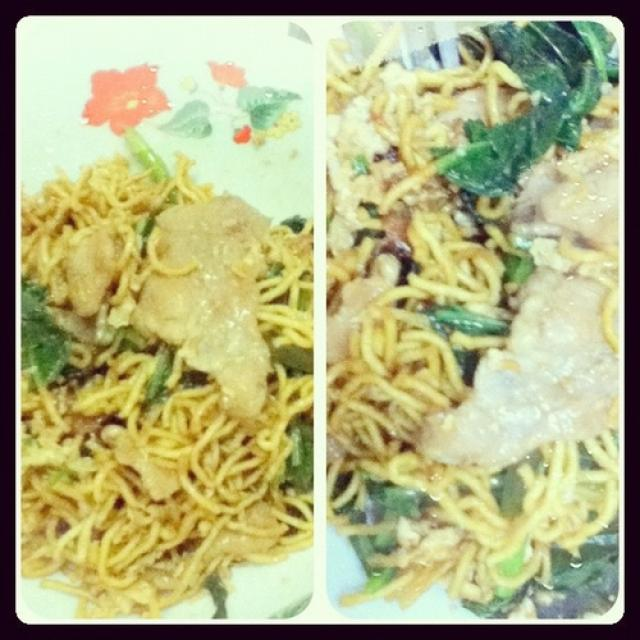面条主食: (26, 37, 613, 602)
